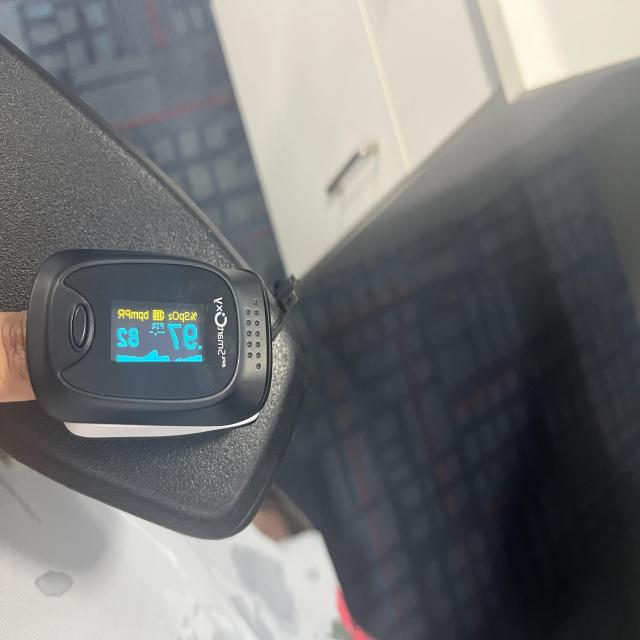spo2: (25, 250, 272, 441)
